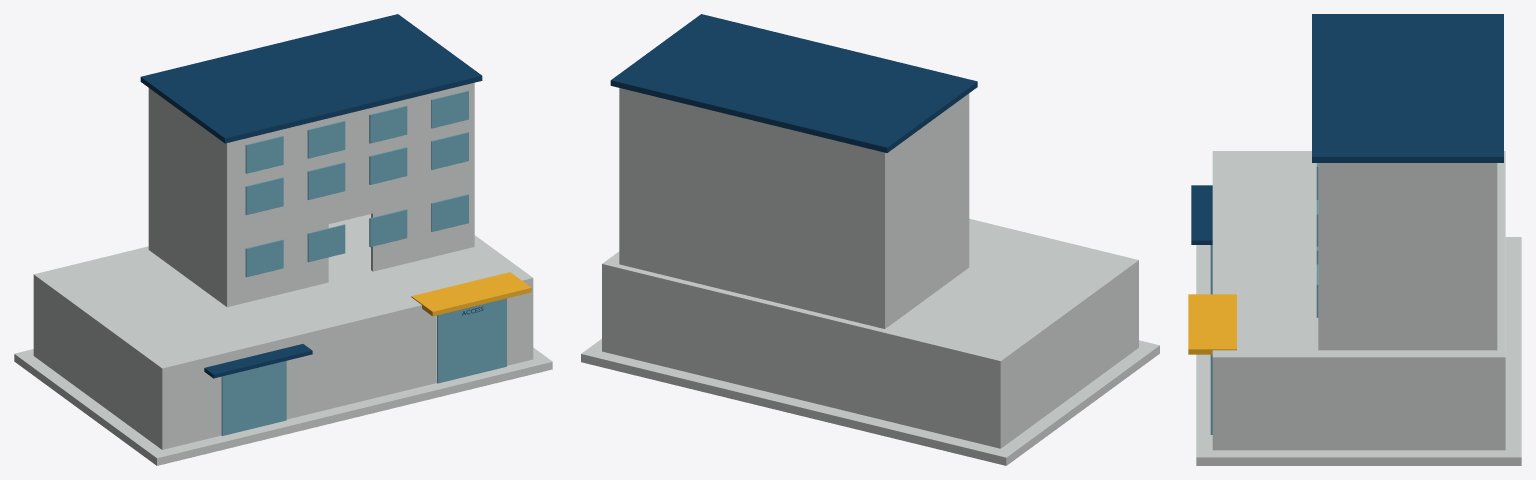
3 views of the same model, side by side, from view 1: azimuth 30°, elevation 25°; view 2: azimuth 150°, elevation 25°; view 3: azimuth 270°, elevation 25° (orthographic). The views are drawn at different scales.
Visible parts, largest first — view 1: PODIUM_Roof, ROOF, WARD_Side, PODIUM_FrontPier.001, WARD_FrontPier, PODIUM_Side, WARD_FrontPier.001, FOUNDATION, PODIUM_FrontPier, AMBULANCE_Entrance, PUBLIC_Entrance, WARD_EntryHeader (+17 smaller); view 2: WARD_Back, PODIUM_Back, ROOF, PODIUM_Roof, WARD_Side, PODIUM_Side, FOUNDATION; view 3: WARD_Side.001, ROOF, PODIUM_Side.001, PODIUM_Roof, FOUNDATION, AMBULANCE_Canopy, PODIUM_Back, PUBLIC_Canopy, WARD_Back, WARD_FrontPier.001, PODIUM_FrontPier.002.
Part boxes in pixels (x1,y1,x2,y2): PODIUM_Roof: (33, 214, 526, 369); ROOF: (140, 14, 482, 143); WARD_Side: (148, 88, 230, 307); PODIUM_FrontPier.001: (284, 304, 436, 419); WARD_FrontPier: (227, 118, 328, 306); PODIUM_Side: (33, 275, 165, 449); WARD_FrontPier.001: (371, 83, 473, 271); FOUNDATION: (14, 347, 552, 465); PODIUM_FrontPier: (160, 352, 221, 449); AMBULANCE_Entrance: (437, 298, 506, 383); PUBLIC_Entrance: (221, 361, 286, 435); WARD_EntryHeader: (328, 107, 372, 223); WARD_Back: (619, 88, 887, 328); PODIUM_Back: (602, 262, 1003, 448); ROOF: (610, 14, 977, 152); PODIUM_Roof: (605, 221, 1136, 365); WARD_Side: (880, 95, 969, 328); PODIUM_Side: (999, 259, 1137, 447); FOUNDATION: (581, 339, 1159, 465); WARD_Side.001: (1318, 163, 1497, 350); ROOF: (1312, 14, 1503, 162); PODIUM_Side.001: (1212, 356, 1505, 450); PODIUM_Roof: (1212, 151, 1505, 361); FOUNDATION: (1196, 237, 1521, 465); AMBULANCE_Canopy: (1188, 294, 1236, 354); PODIUM_Back: (1500, 151, 1505, 450); PUBLIC_Canopy: (1191, 185, 1212, 244); WARD_Back: (1492, 163, 1497, 350); WARD_FrontPier.001: (1318, 163, 1323, 350); PODIUM_FrontPier.002: (1212, 350, 1217, 449).
Bounding box in the file's own units: 16 × 10.1 × 10.25.
